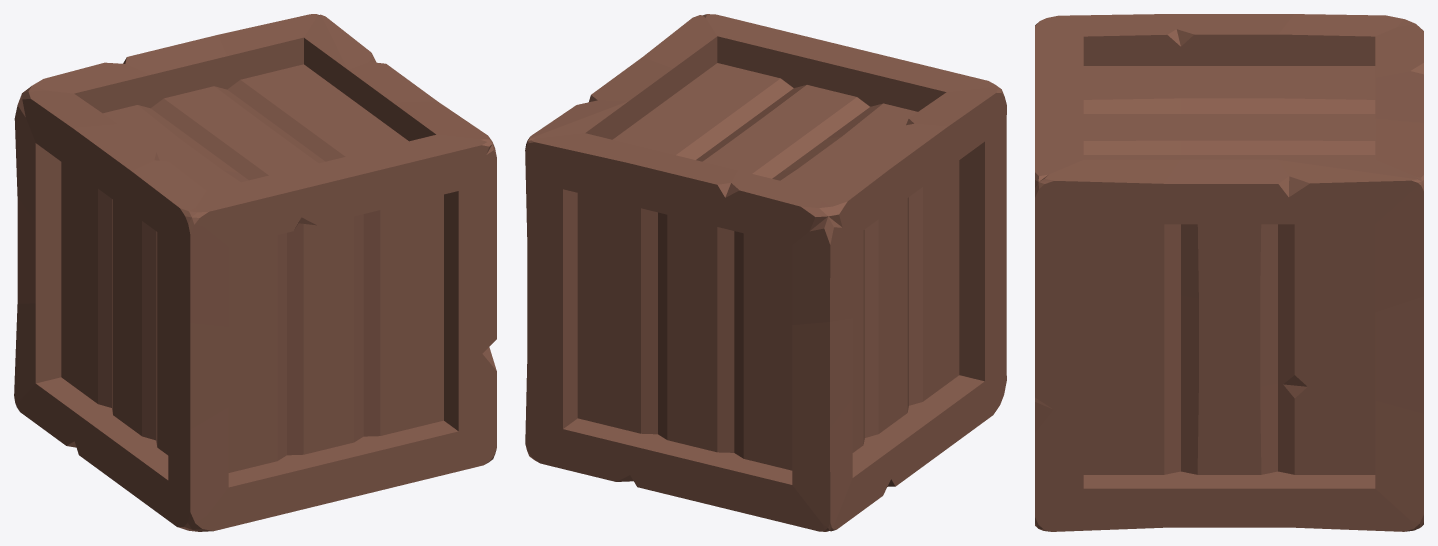
The model's file is crate.fbx.
3 views of the same model, side by side, from view 1: azimuth 30°, elevation 25°; view 2: azimuth 150°, elevation 25°; view 3: azimuth 270°, elevation 25° (orthographic). The views are drawn at different scales.
Visible parts, largest first — view 1: crate; view 2: crate; view 3: crate.
Part boxes in pixels (x1,y1,x2,y2): crate: (14, 14, 496, 531); crate: (525, 14, 1006, 531); crate: (1035, 14, 1423, 531).
Bounding box in the file's own units: 120 × 121 × 120.
